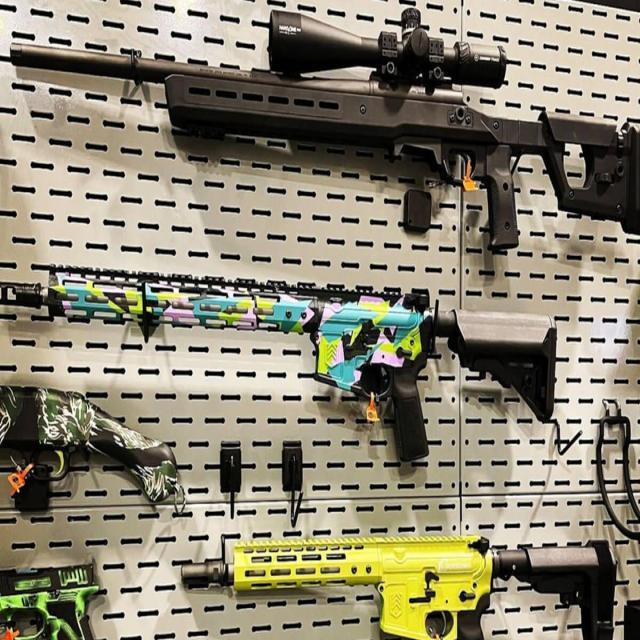Rifle: (11, 10, 640, 249), (0, 279, 558, 463), (180, 536, 618, 640)
